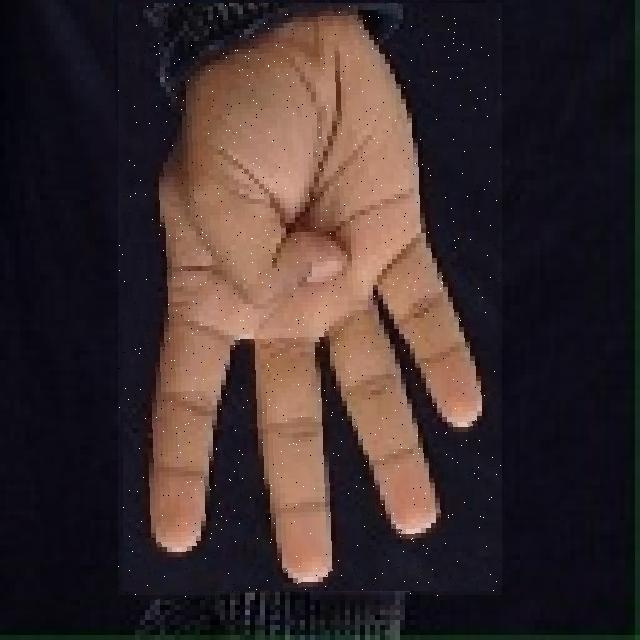Thanks: (119, 4, 502, 598)
